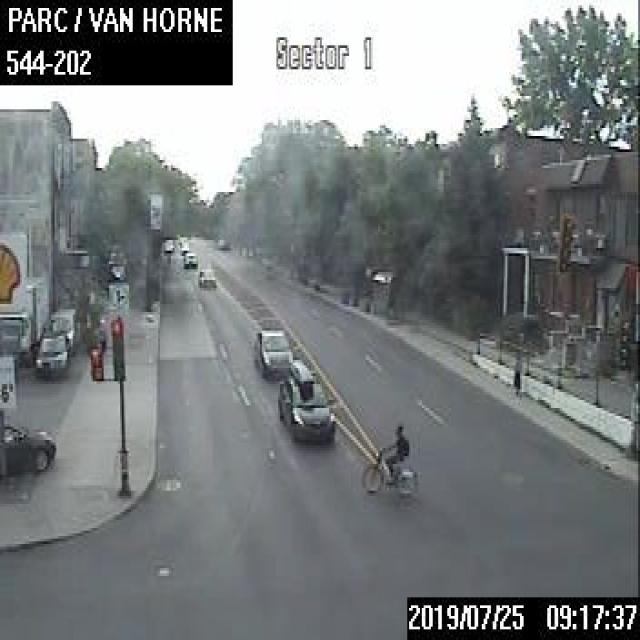cyclist: (362, 421, 422, 499)
vehicle: (277, 357, 336, 440), (0, 274, 47, 362), (2, 420, 55, 474), (252, 326, 292, 379), (43, 305, 80, 354), (35, 330, 70, 373), (197, 266, 215, 286), (182, 250, 197, 266), (216, 237, 230, 248), (162, 237, 173, 250), (179, 240, 188, 251)
